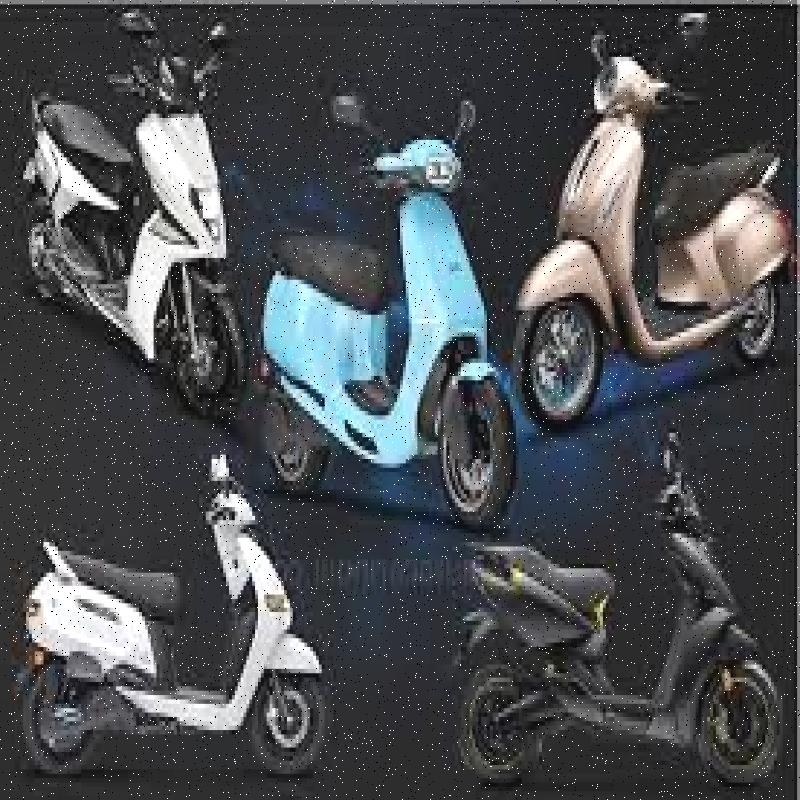bike: (245, 56, 517, 553), (447, 413, 796, 792), (504, 8, 790, 434), (15, 448, 324, 800), (19, 7, 280, 411)
